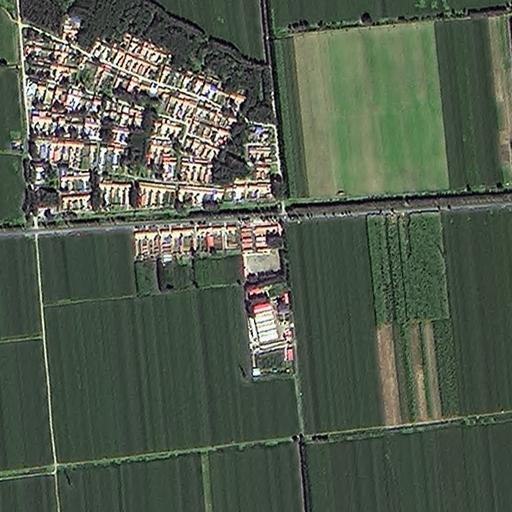school: (241, 222, 291, 350)
